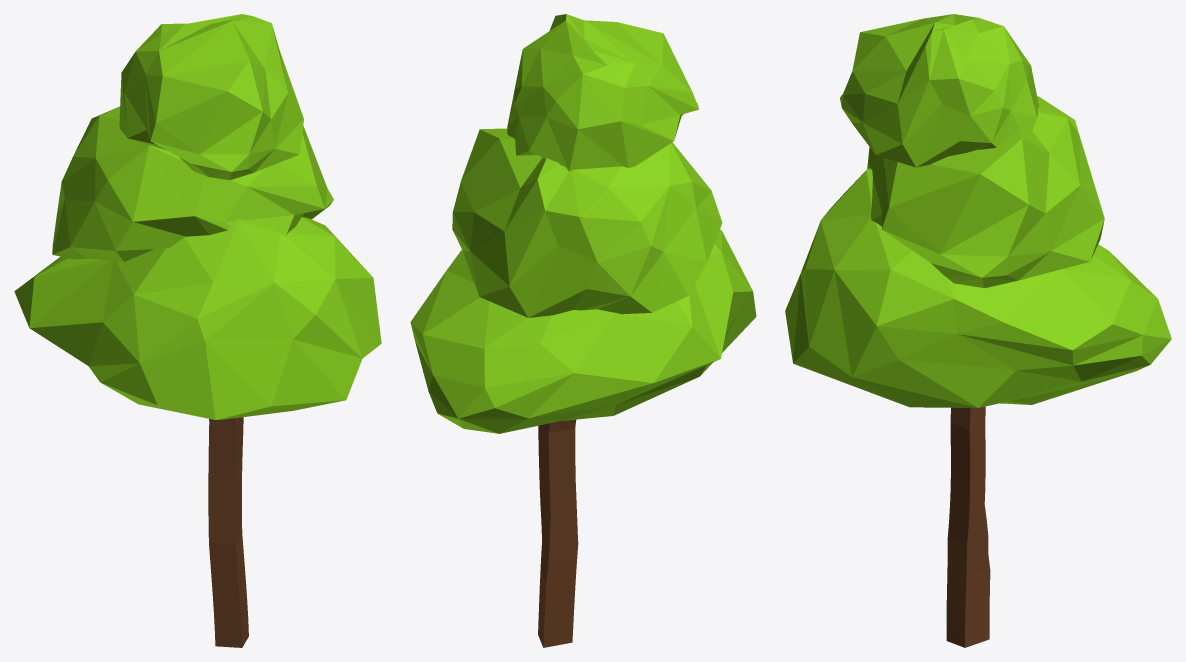
Rendered from Tree2.fbx.
3 renders of one model, left to right at view 1: azimuth 30°, elevation 25°; view 2: azimuth 150°, elevation 25°; view 3: azimuth 270°, elevation 25°, orthographic. The views are drawn at different scales.
Parts seen in each view (by area): view 1: Tree2; view 2: Tree2; view 3: Tree2.
Part boxes in pixels (bbox=[...]): Tree2: bbox=[14, 14, 381, 647]; Tree2: bbox=[410, 14, 756, 647]; Tree2: bbox=[785, 14, 1171, 647].
Size of the model in its own units: 501 by 1072 by 614.
